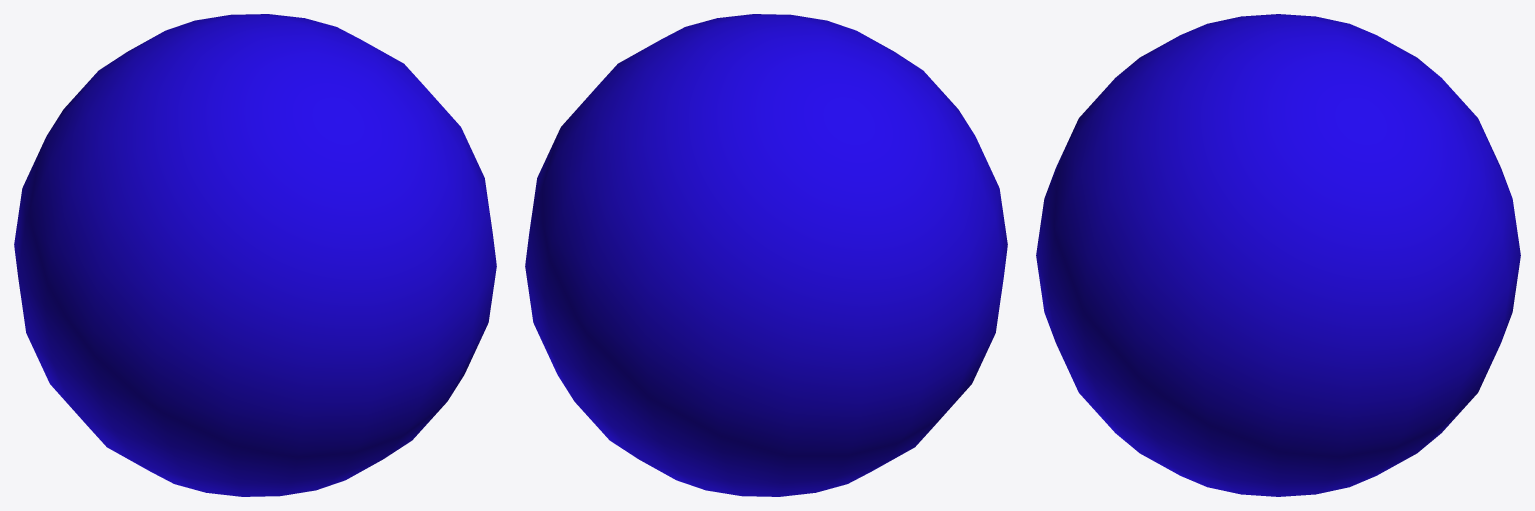
Rendered from sBlock4.glb.
The picture shows the model from 3 angles, left to right: view 1: azimuth 30°, elevation 25°; view 2: azimuth 150°, elevation 25°; view 3: azimuth 270°, elevation 25°; orthographic projection.
Parts seen in each view (by area): view 1: Sphere; view 2: Sphere; view 3: Sphere.
Part boxes in pixels (left/top/right/bottom): Sphere: left=14, top=14, right=496, bottom=496; Sphere: left=525, top=14, right=1007, bottom=496; Sphere: left=1036, top=14, right=1520, bottom=496.
Bounding box in the file's own units: 0.1172 × 0.1172 × 0.1172.
